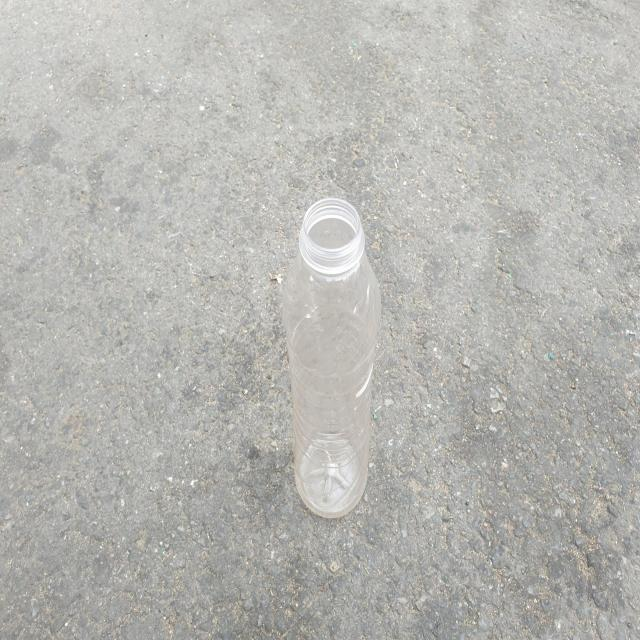plastic: (283, 197, 381, 518)
